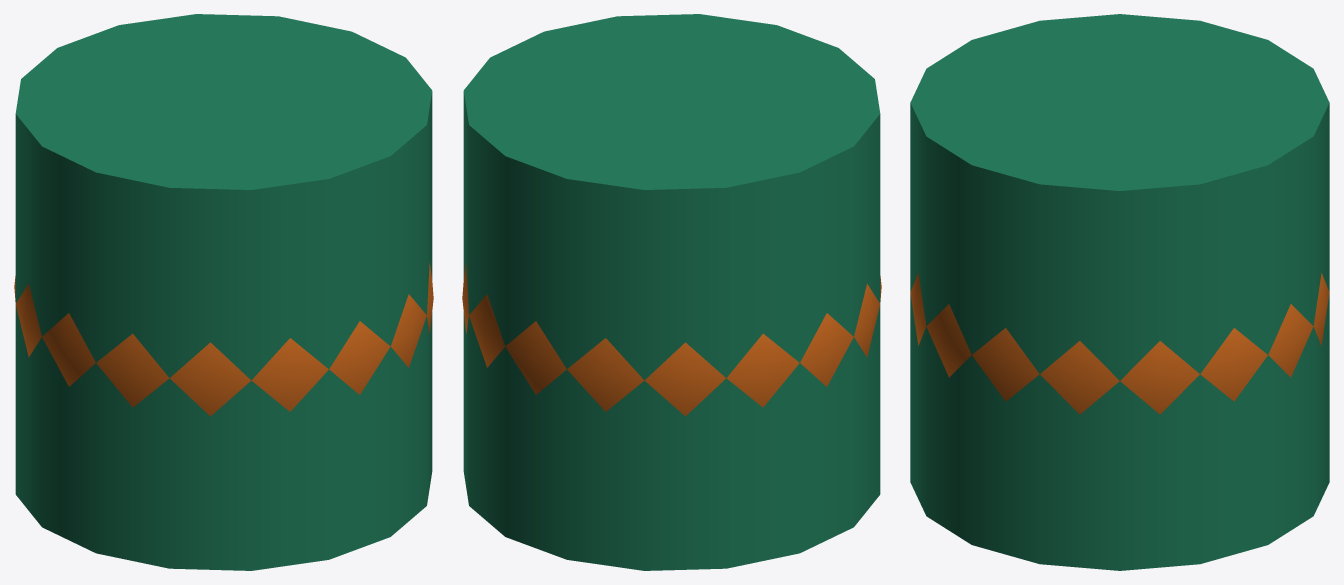
File: hoopbot.glb
3 renders of one model, left to right at view 1: azimuth 30°, elevation 25°; view 2: azimuth 150°, elevation 25°; view 3: azimuth 270°, elevation 25°, orthographic.
Visible parts, largest first — view 1: Segment_Spine, Prop_Ball; view 2: Segment_Spine, Prop_Ball; view 3: Segment_Spine, Prop_Ball.
Part boxes in pixels (box(x1,y1,x2,y2)): Segment_Spine: box(15, 14, 432, 570); Prop_Ball: box(14, 262, 433, 416); Segment_Spine: box(463, 14, 880, 570); Prop_Ball: box(462, 262, 881, 416); Segment_Spine: box(910, 14, 1329, 570); Prop_Ball: box(910, 273, 1329, 414).
Bounding box in the file's own units: 1 × 1 × 1.
